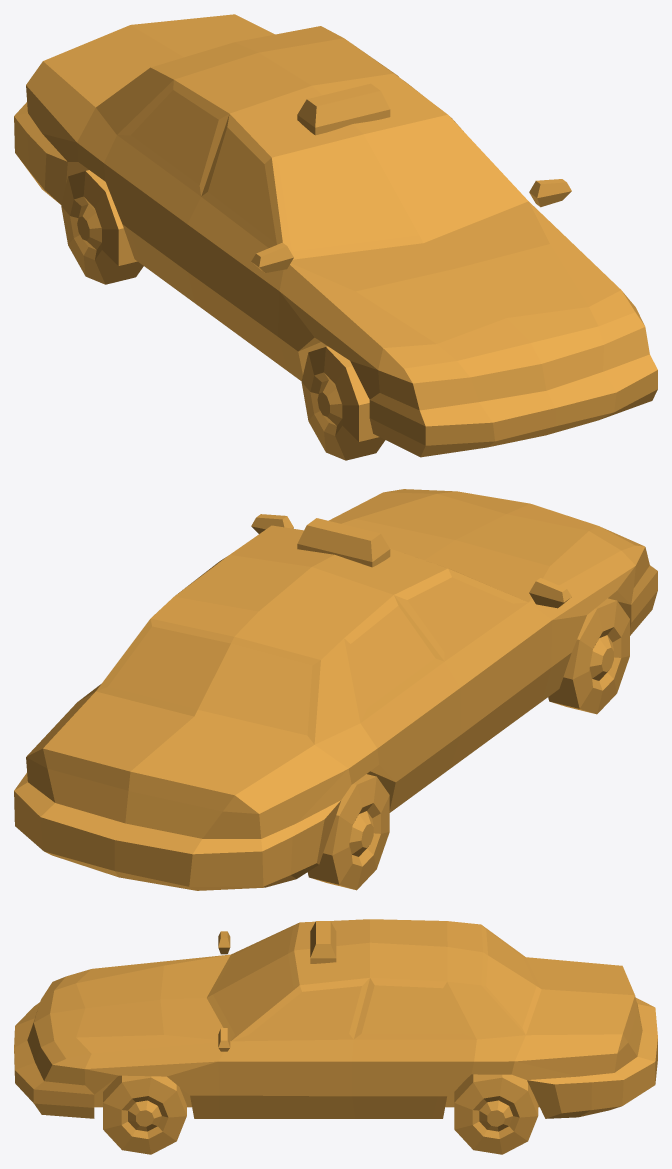
File: car-taxi-china.fbx
3 renders of one model, top to bottom at view 1: azimuth 30°, elevation 25°; view 2: azimuth 150°, elevation 25°; view 3: azimuth 270°, elevation 25°, orthographic. The views are drawn at different scales.
Parts seen in each view (by area): view 1: car-taxi-china-base, car-taxi-china-wheel_FR, car-taxi-china-wheel_BR; view 2: car-taxi-china-base, car-taxi-china-wheel_BR, car-taxi-china-wheel_FR; view 3: car-taxi-china-base, car-taxi-china-wheel_BL, car-taxi-china-wheel_FL.
Part boxes in pixels (box(x1,y1,x2,y2)): car-taxi-china-base: box(14, 14, 657, 457); car-taxi-china-wheel_FR: box(301, 346, 385, 460); car-taxi-china-wheel_BR: box(61, 170, 143, 284); car-taxi-china-base: box(14, 489, 657, 890); car-taxi-china-wheel_BR: box(307, 774, 389, 890); car-taxi-china-wheel_FR: box(548, 598, 629, 714); car-taxi-china-base: box(14, 919, 657, 1118); car-taxi-china-wheel_BL: box(454, 1074, 538, 1154); car-taxi-china-wheel_FL: box(103, 1075, 186, 1154).
Size of the model in its own units: 2.19 by 1.59 by 5.35.
